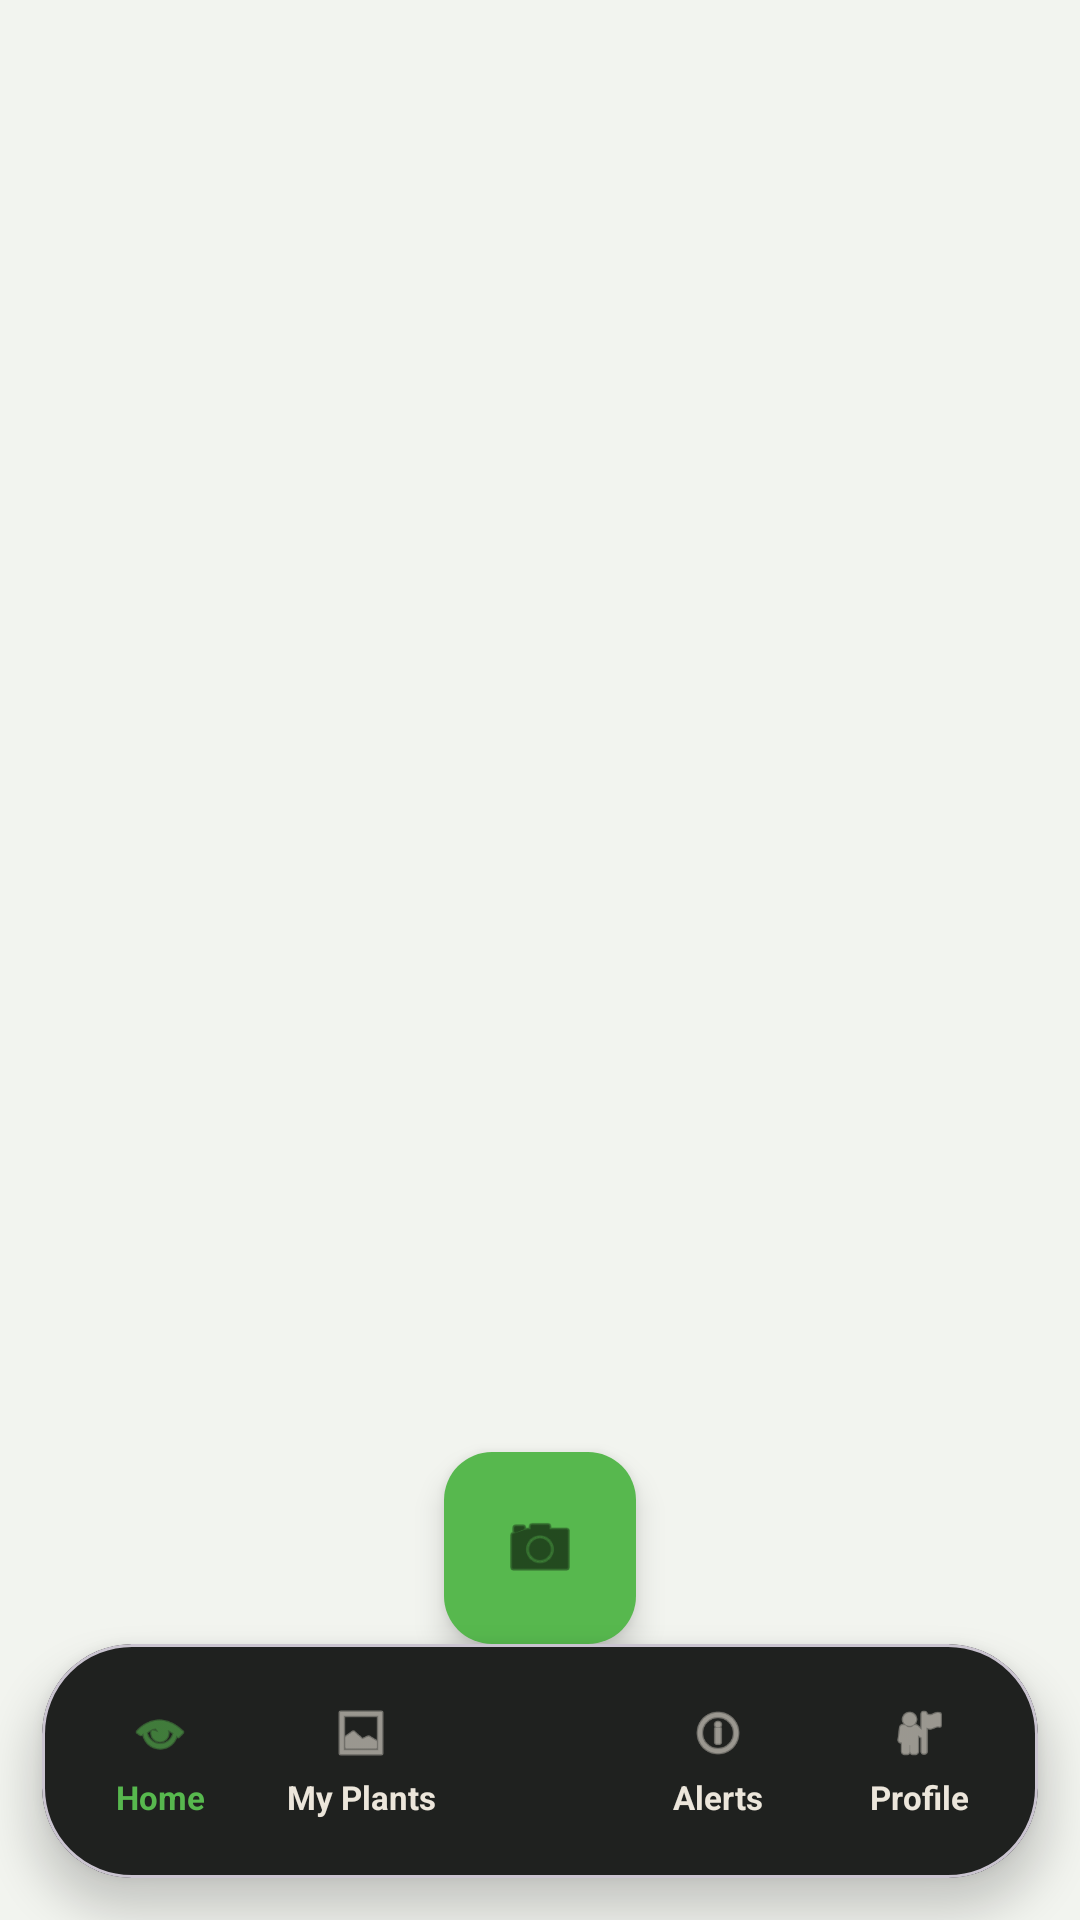

Locate icon controls on the screen. Image size 1080 × 1920, boxes as (x1, y1, x2, y2).
Capture plant photo: (444, 1452, 636, 1644)
gallery: (338, 1710, 384, 1756)
info details: (696, 1711, 740, 1755)
view: (136, 1719, 184, 1750)
